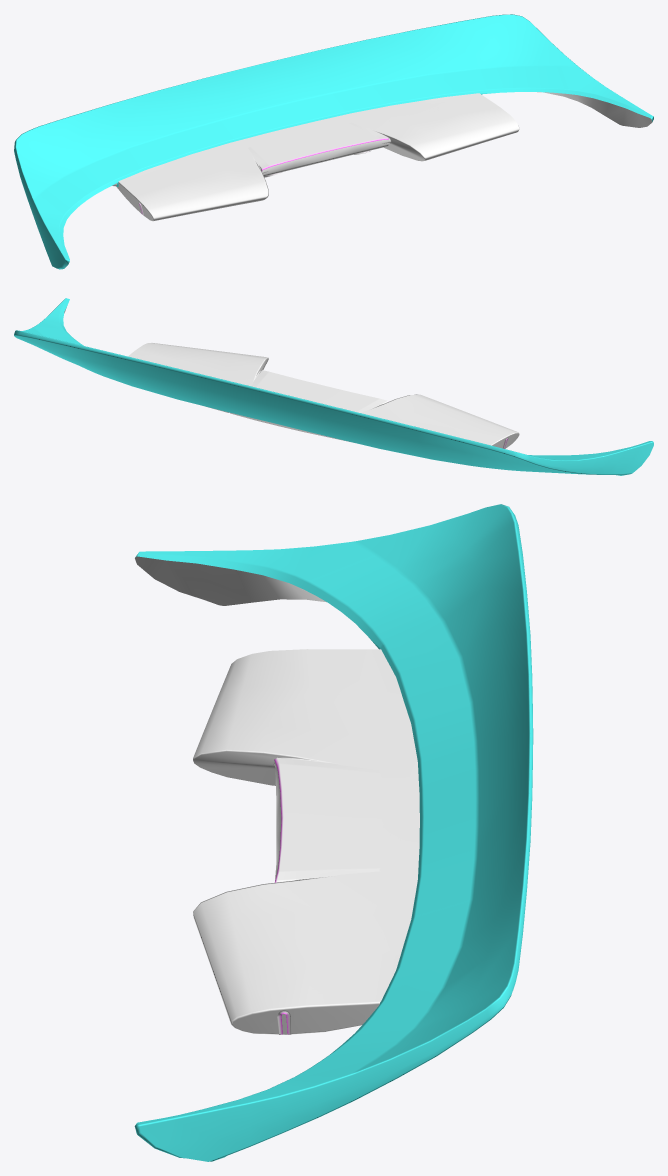
The model's file is Car_Ford_GT_2017_Spoiler_SetF.fbx.
3 views of the same model, one above another, from view 1: azimuth 30°, elevation 25°; view 2: azimuth 150°, elevation 25°; view 3: azimuth 270°, elevation 25° (orthographic). The views are drawn at different scales.
Visible parts, largest first — view 1: Spoiler 6; view 2: Spoiler 6; view 3: Spoiler 6.
Boxes of the visible parts, <box> form: Spoiler 6: <box>14,14,653,269</box>; Spoiler 6: <box>14,298,653,475</box>; Spoiler 6: <box>134,504,533,1161</box>.
Size of the model in its own units: 1.81 by 0.2169 by 0.5303.
